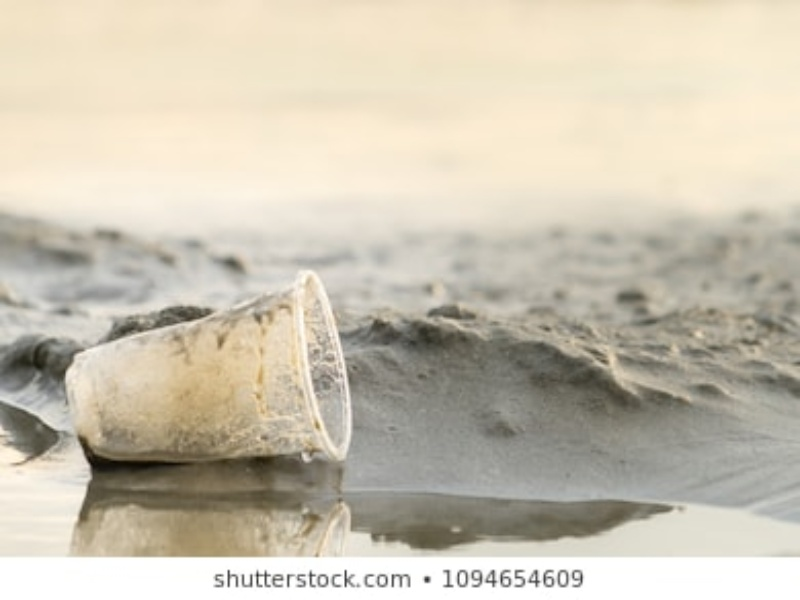plastic-cup: (55, 264, 367, 482)
